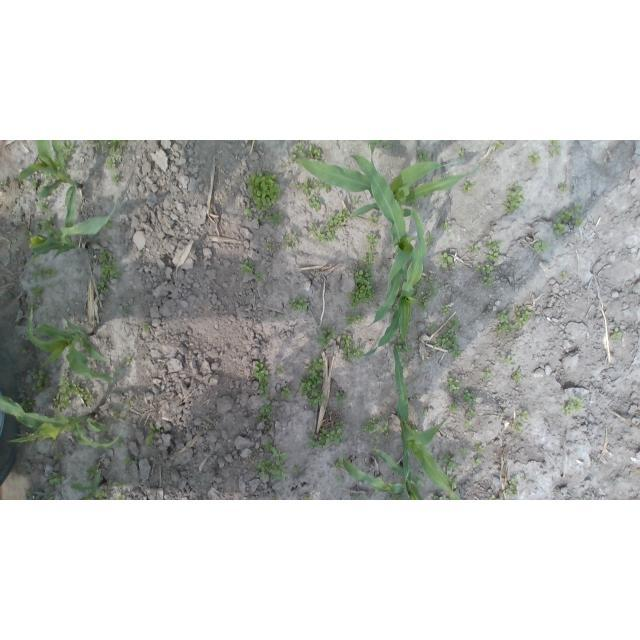Maize: (392, 345, 467, 500), (351, 154, 418, 327), (298, 153, 481, 216), (360, 206, 428, 360), (27, 183, 118, 262), (0, 393, 122, 450), (27, 308, 113, 383), (341, 448, 424, 500), (19, 140, 84, 196), (70, 465, 108, 500), (368, 140, 388, 174)
Weeds: (245, 171, 281, 213), (48, 374, 82, 413), (300, 357, 325, 408), (314, 209, 350, 244), (347, 268, 376, 308), (307, 423, 344, 450), (412, 279, 441, 313), (254, 459, 292, 482), (289, 141, 323, 164), (98, 248, 121, 280), (435, 329, 461, 357), (253, 359, 271, 398), (340, 335, 365, 362), (552, 208, 573, 238), (503, 183, 523, 214), (558, 395, 582, 416), (316, 327, 337, 350), (293, 179, 318, 198), (31, 367, 49, 393), (359, 417, 382, 436), (485, 239, 502, 264), (515, 307, 534, 329), (287, 294, 310, 312), (145, 423, 163, 446), (395, 332, 413, 355), (257, 401, 274, 424), (503, 475, 519, 497), (439, 451, 456, 471), (90, 418, 110, 435), (58, 141, 74, 162), (32, 268, 57, 281), (47, 471, 65, 489), (346, 309, 364, 327), (265, 212, 284, 229), (445, 375, 461, 395), (87, 140, 127, 148), (34, 216, 55, 231), (107, 148, 122, 169), (271, 447, 287, 466), (360, 250, 376, 269), (80, 388, 96, 405), (283, 232, 300, 248), (19, 396, 35, 412), (439, 252, 454, 269), (239, 261, 256, 276), (85, 466, 100, 483), (548, 140, 562, 157), (497, 324, 516, 336), (495, 309, 510, 324), (532, 239, 548, 253), (527, 151, 541, 167), (307, 196, 321, 212), (366, 233, 379, 250), (95, 279, 109, 294), (315, 180, 331, 193), (447, 316, 459, 333), (609, 327, 623, 341), (462, 391, 475, 405), (28, 301, 41, 315), (417, 148, 429, 163), (462, 181, 475, 194), (515, 408, 528, 421), (31, 285, 44, 298), (500, 355, 515, 366), (423, 232, 435, 245), (28, 253, 40, 266), (335, 391, 348, 403), (280, 387, 293, 399), (440, 304, 453, 316), (512, 369, 523, 383), (482, 276, 494, 288), (388, 492, 405, 500), (481, 263, 493, 274), (440, 220, 452, 231), (510, 420, 521, 432), (366, 216, 378, 227), (121, 455, 134, 465), (379, 140, 393, 149), (573, 217, 584, 228), (243, 208, 254, 219), (39, 200, 49, 212), (380, 421, 390, 433), (493, 140, 504, 150), (471, 457, 481, 468), (23, 230, 33, 241), (102, 220, 112, 231), (262, 440, 272, 451), (252, 272, 264, 281), (53, 452, 65, 461), (465, 408, 475, 418), (474, 443, 484, 453), (469, 244, 480, 253), (572, 203, 581, 214), (481, 370, 492, 379), (448, 404, 459, 413), (333, 459, 344, 468), (43, 171, 52, 181), (425, 276, 435, 285), (308, 223, 316, 234), (456, 148, 465, 157), (464, 420, 473, 429), (112, 173, 121, 182), (30, 440, 39, 449), (558, 183, 568, 191), (43, 492, 53, 500), (399, 356, 409, 364), (433, 493, 444, 500), (117, 493, 128, 500), (116, 480, 125, 488), (428, 324, 437, 332), (370, 437, 378, 446), (276, 366, 284, 375), (460, 447, 467, 457), (114, 366, 121, 376), (106, 479, 112, 490), (384, 432, 392, 440), (265, 243, 273, 251), (42, 308, 49, 317), (121, 307, 131, 313), (473, 265, 480, 273), (560, 271, 568, 278), (143, 324, 150, 332), (0, 179, 8, 186), (31, 179, 38, 187), (353, 199, 360, 207), (125, 413, 132, 421), (125, 356, 131, 365), (489, 495, 499, 500), (423, 408, 429, 416), (20, 347, 28, 353), (336, 477, 344, 483), (255, 215, 263, 221), (279, 314, 285, 321), (293, 467, 300, 472), (303, 496, 309, 500), (45, 285, 52, 288), (273, 497, 279, 500)
